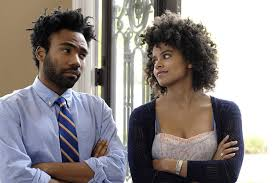black_male: (39, 25, 84, 92)
